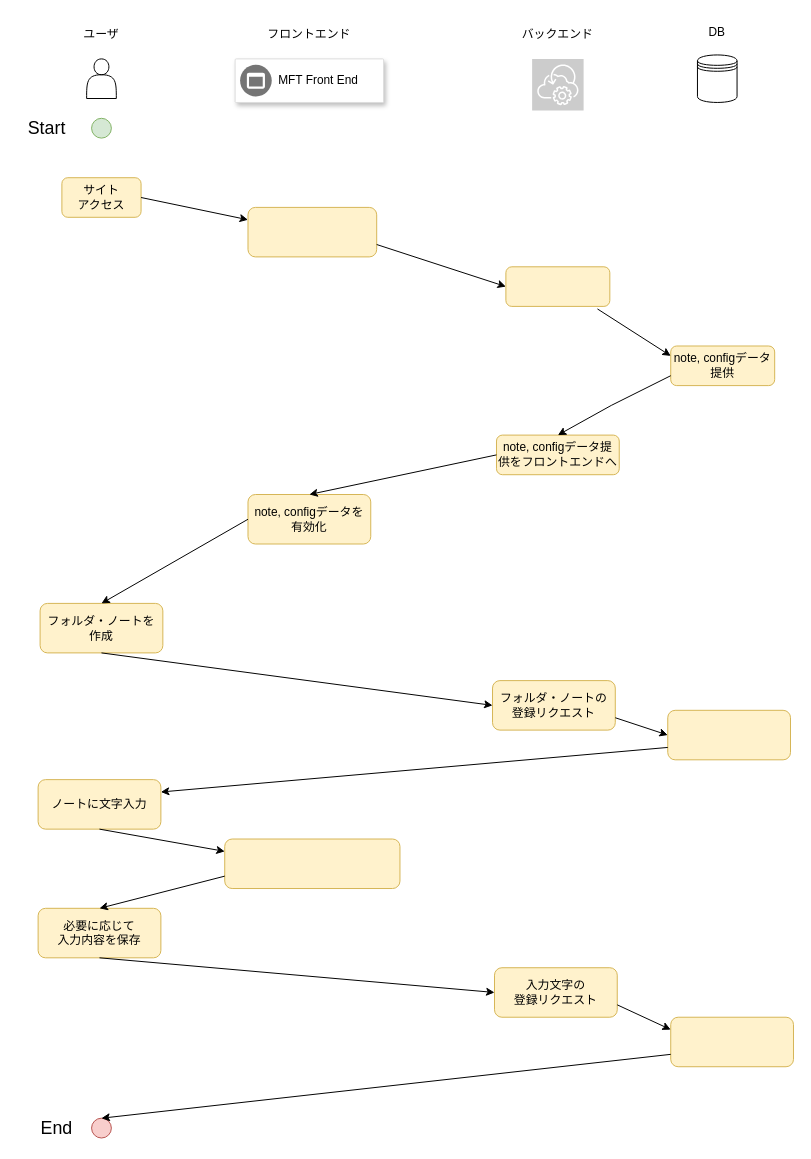
Some shapes in this 811 by 1159 pixel diagram are drawn without their labels. The shapes that lost their labels are listed below. From the top down, each one's centre as x and y in pixels, then its label:
(x=312, y=231): note, configデータをバックエンドへ提供依頼
(x=557, y=286): note, configデータ を取得
(x=729, y=734): フォルダ・ノートを 登録
(x=312, y=863): ビューワーで数式レンダリングした文章を表示
(x=731, y=1041): 入力文字列を登録
